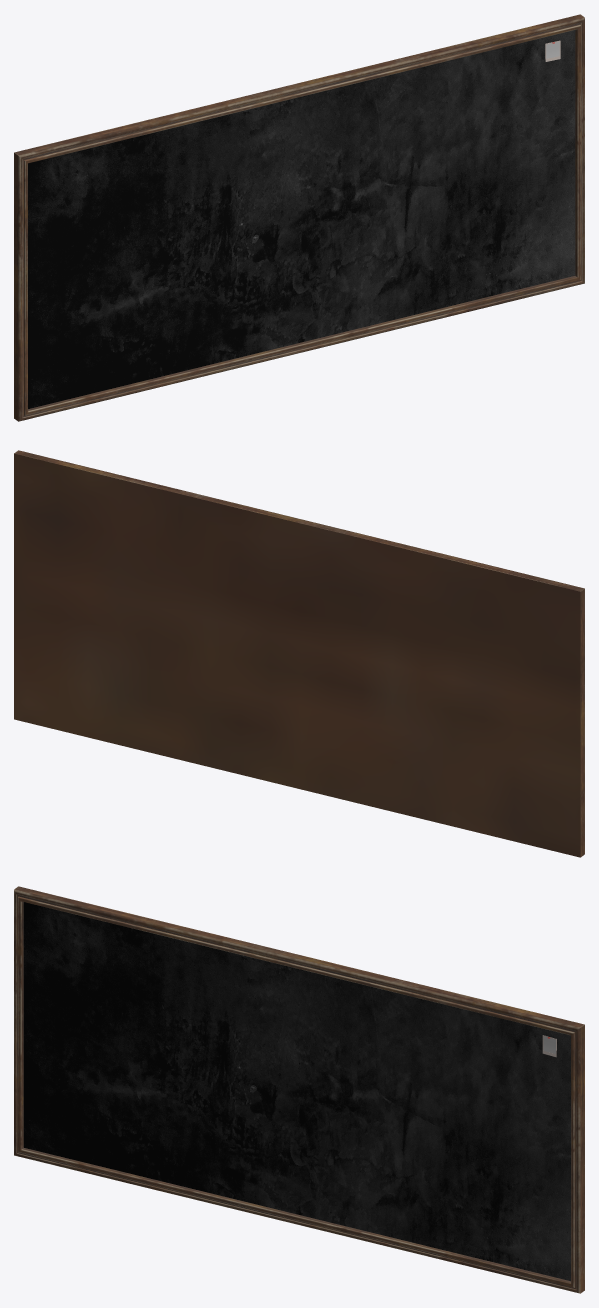
Rendered from Blackboard.gltf.
3 views of the same model, one above another, from view 1: azimuth 30°, elevation 25°; view 2: azimuth 150°, elevation 25°; view 3: azimuth 330°, elevation 25° (orthographic).
Parts seen in each view (by area): view 1: Cube; view 2: Cube; view 3: Cube.
Boxes of the visible parts, x1=… form: Cube: x1=14, y1=14, x2=584, y2=421; Cube: x1=14, y1=450, x2=584, y2=857; Cube: x1=14, y1=886, x2=584, y2=1293.
Size of the model in its own units: 3.63 by 1.63 by 0.0649.
